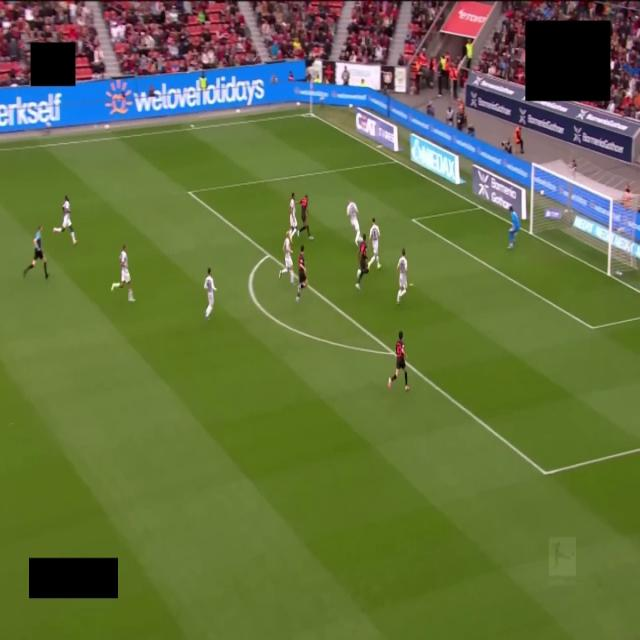player: (111, 245, 134, 302), (388, 331, 409, 391), (53, 196, 76, 244), (279, 236, 294, 284), (298, 195, 313, 240), (356, 234, 368, 289), (347, 200, 361, 246), (296, 246, 307, 302), (204, 268, 216, 319), (369, 218, 380, 268), (397, 248, 407, 303), (508, 207, 520, 248), (289, 192, 299, 239)
referee: (24, 226, 48, 279)
